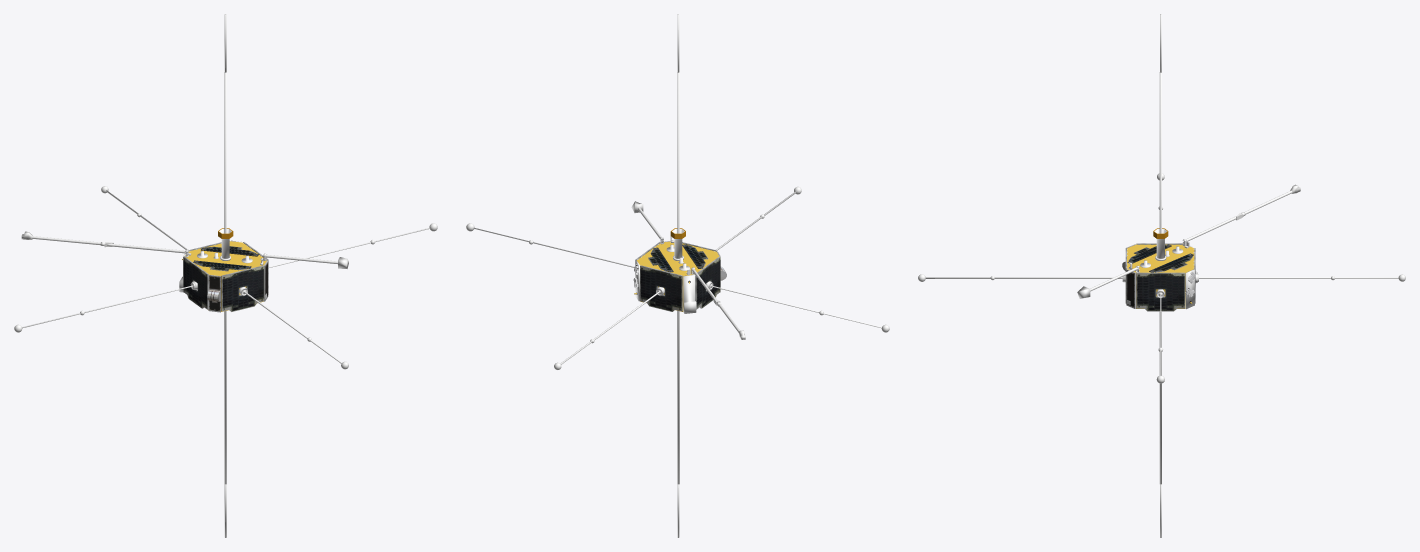
File: themis.glb
The picture shows the model from 3 angles, left to right: view 1: azimuth 30°, elevation 25°; view 2: azimuth 150°, elevation 25°; view 3: azimuth 270°, elevation 25°; orthographic projection.
Parts seen in each view (by area): view 1: foil_silver, shiny_panel, BUS, tex_01; view 2: foil_silver, shiny_panel, BUS; view 3: foil_silver, shiny_panel, BUS, tex_01.
Part boxes in pixels (x1,y1,x2,y2): foil_silver: (14, 14, 437, 537); shiny_panel: (183, 242, 268, 311); BUS: (182, 241, 266, 311); tex_01: (207, 228, 268, 312); foil_silver: (466, 14, 889, 537); shiny_panel: (635, 242, 720, 311); BUS: (634, 241, 719, 311); foil_silver: (918, 14, 1405, 537); shiny_panel: (1125, 243, 1195, 311); BUS: (1127, 244, 1194, 308); tex_01: (1122, 228, 1195, 308).
Size of the model in its own units: 6.09 by 7.21 by 6.09.
4 materials, 2 textured.
